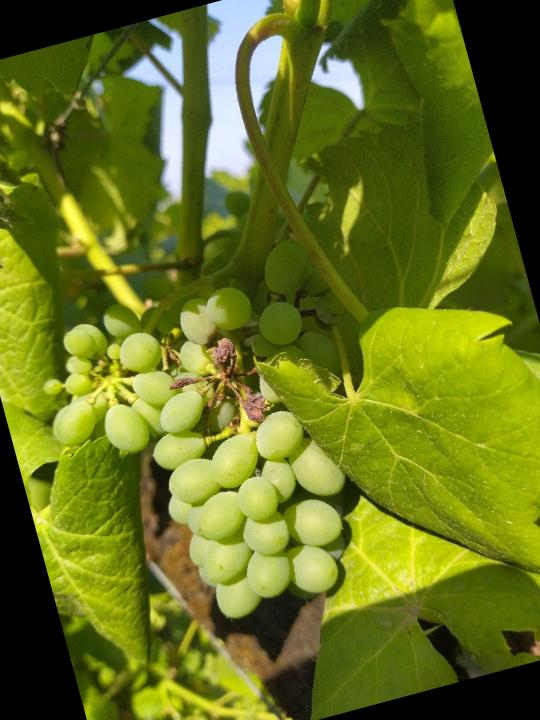grape: (8, 221, 420, 659)
